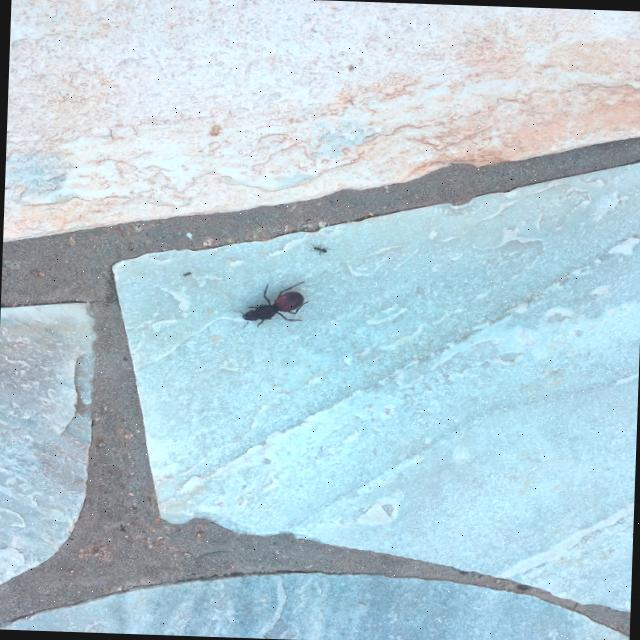Alive-Female-Dealate: (232, 278, 310, 330)
